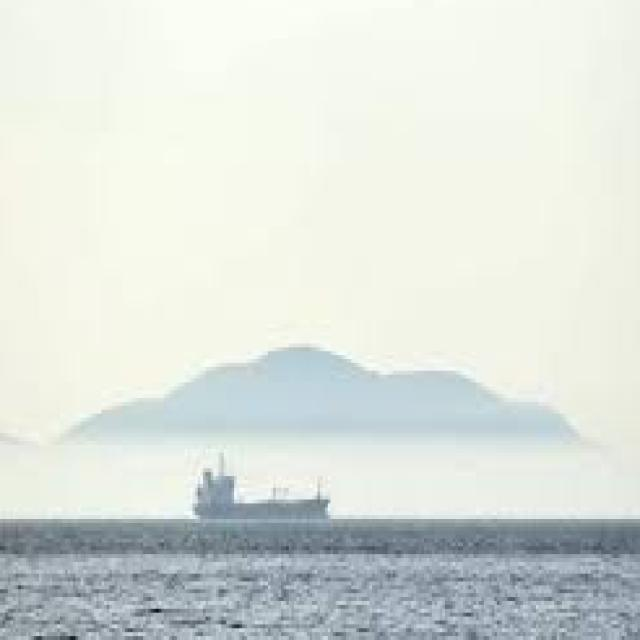cargoship: (170, 441, 330, 534)
